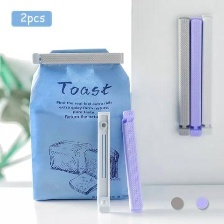snack: (23, 40, 136, 205)
